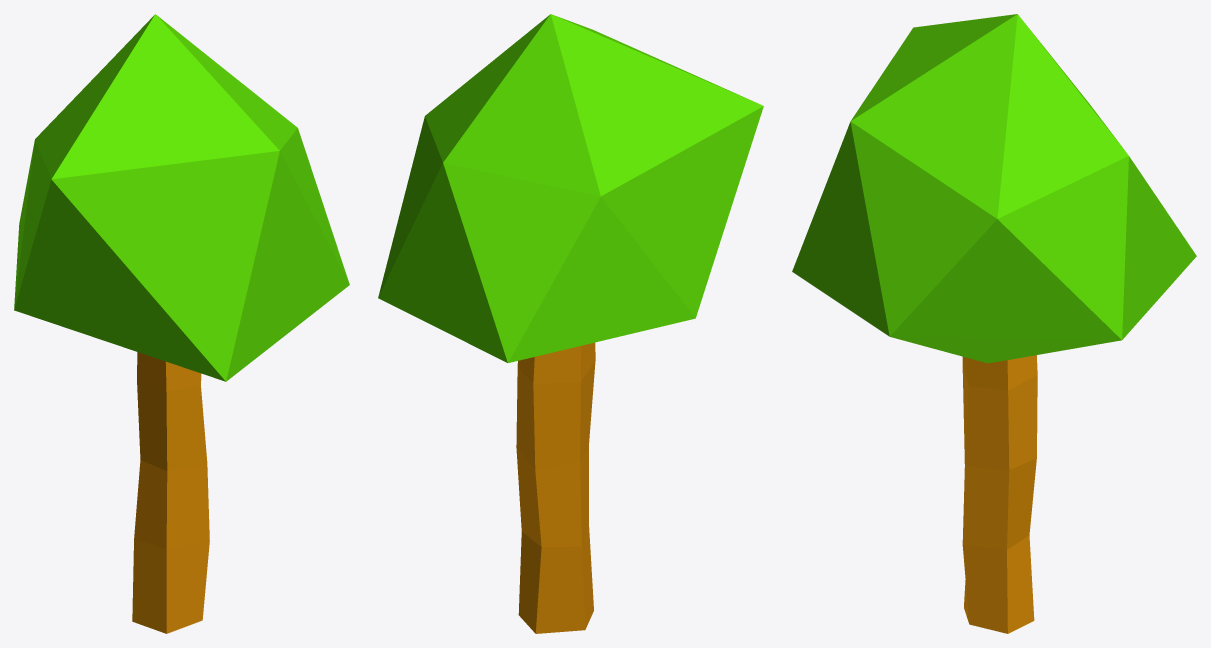
The model's file is tree3.glb.
3 views of the same model, side by side, from view 1: azimuth 30°, elevation 25°; view 2: azimuth 150°, elevation 25°; view 3: azimuth 270°, elevation 25° (orthographic). The views are drawn at different scales.
Visible parts, largest first — view 1: Icosphere.002, Tree.002; view 2: Icosphere.002, Tree.002; view 3: Icosphere.002, Tree.002.
Part boxes in pixels (<box>): Icosphere.002: <box>14,14,349,381</box>; Tree.002: <box>132,352,209,633</box>; Icosphere.002: <box>378,14,763,362</box>; Tree.002: <box>516,342,595,633</box>; Icosphere.002: <box>792,14,1196,363</box>; Tree.002: <box>962,355,1037,633</box>.
Bounding box in the file's own units: 1.17 × 2.33 × 1.42.
